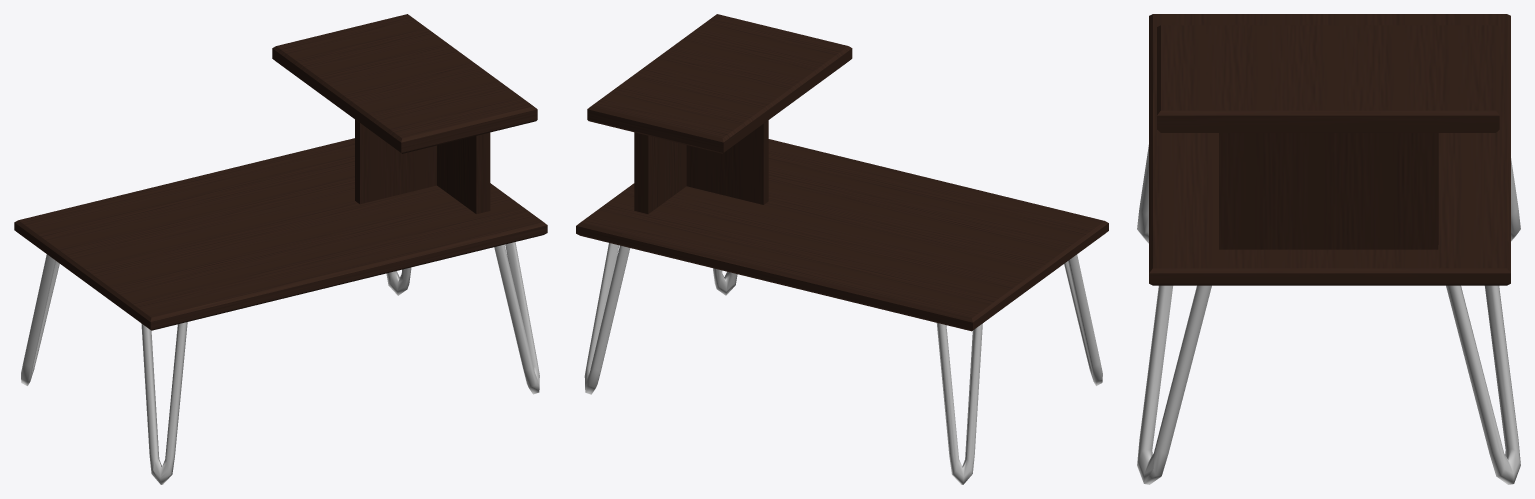
File: End_Table_01.FBX
The picture shows the model from 3 angles, left to right: view 1: azimuth 30°, elevation 25°; view 2: azimuth 150°, elevation 25°; view 3: azimuth 270°, elevation 25°; orthographic projection. The views are drawn at different scales.
Visible parts, largest first — view 1: End_Table; view 2: End_Table; view 3: End_Table.
Part boxes in pixels (x1,y1,x2,y2): End_Table: (14,14,547,484); End_Table: (576,14,1108,484); End_Table: (1137,14,1520,484).
Size of the model in its own units: 160 by 109 by 101.
